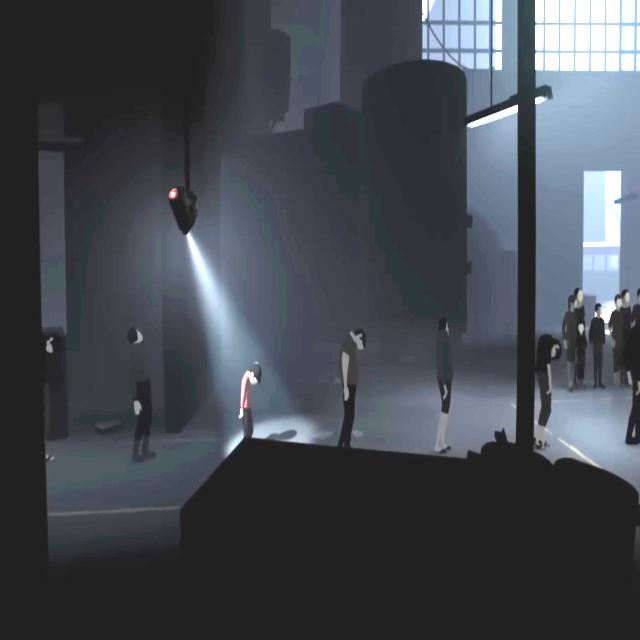boy: (239, 361, 262, 440)
human: (589, 303, 606, 389), (562, 295, 577, 391), (608, 294, 622, 387), (578, 321, 588, 389), (574, 288, 585, 320), (621, 289, 631, 312), (632, 288, 640, 313)
zombie: (127, 327, 157, 462), (337, 327, 367, 451), (534, 334, 562, 449), (434, 316, 453, 455), (42, 332, 58, 462), (625, 313, 640, 444)
